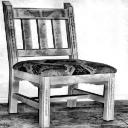chair_success: (0, 0, 120, 127)
